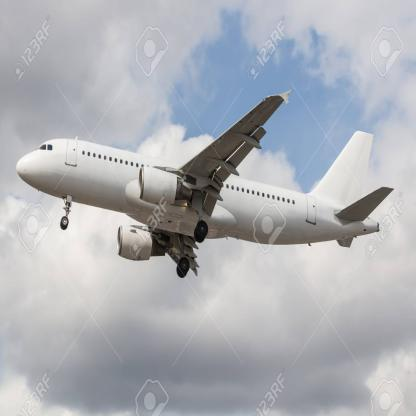CIV_Plane: (9, 87, 396, 293)
